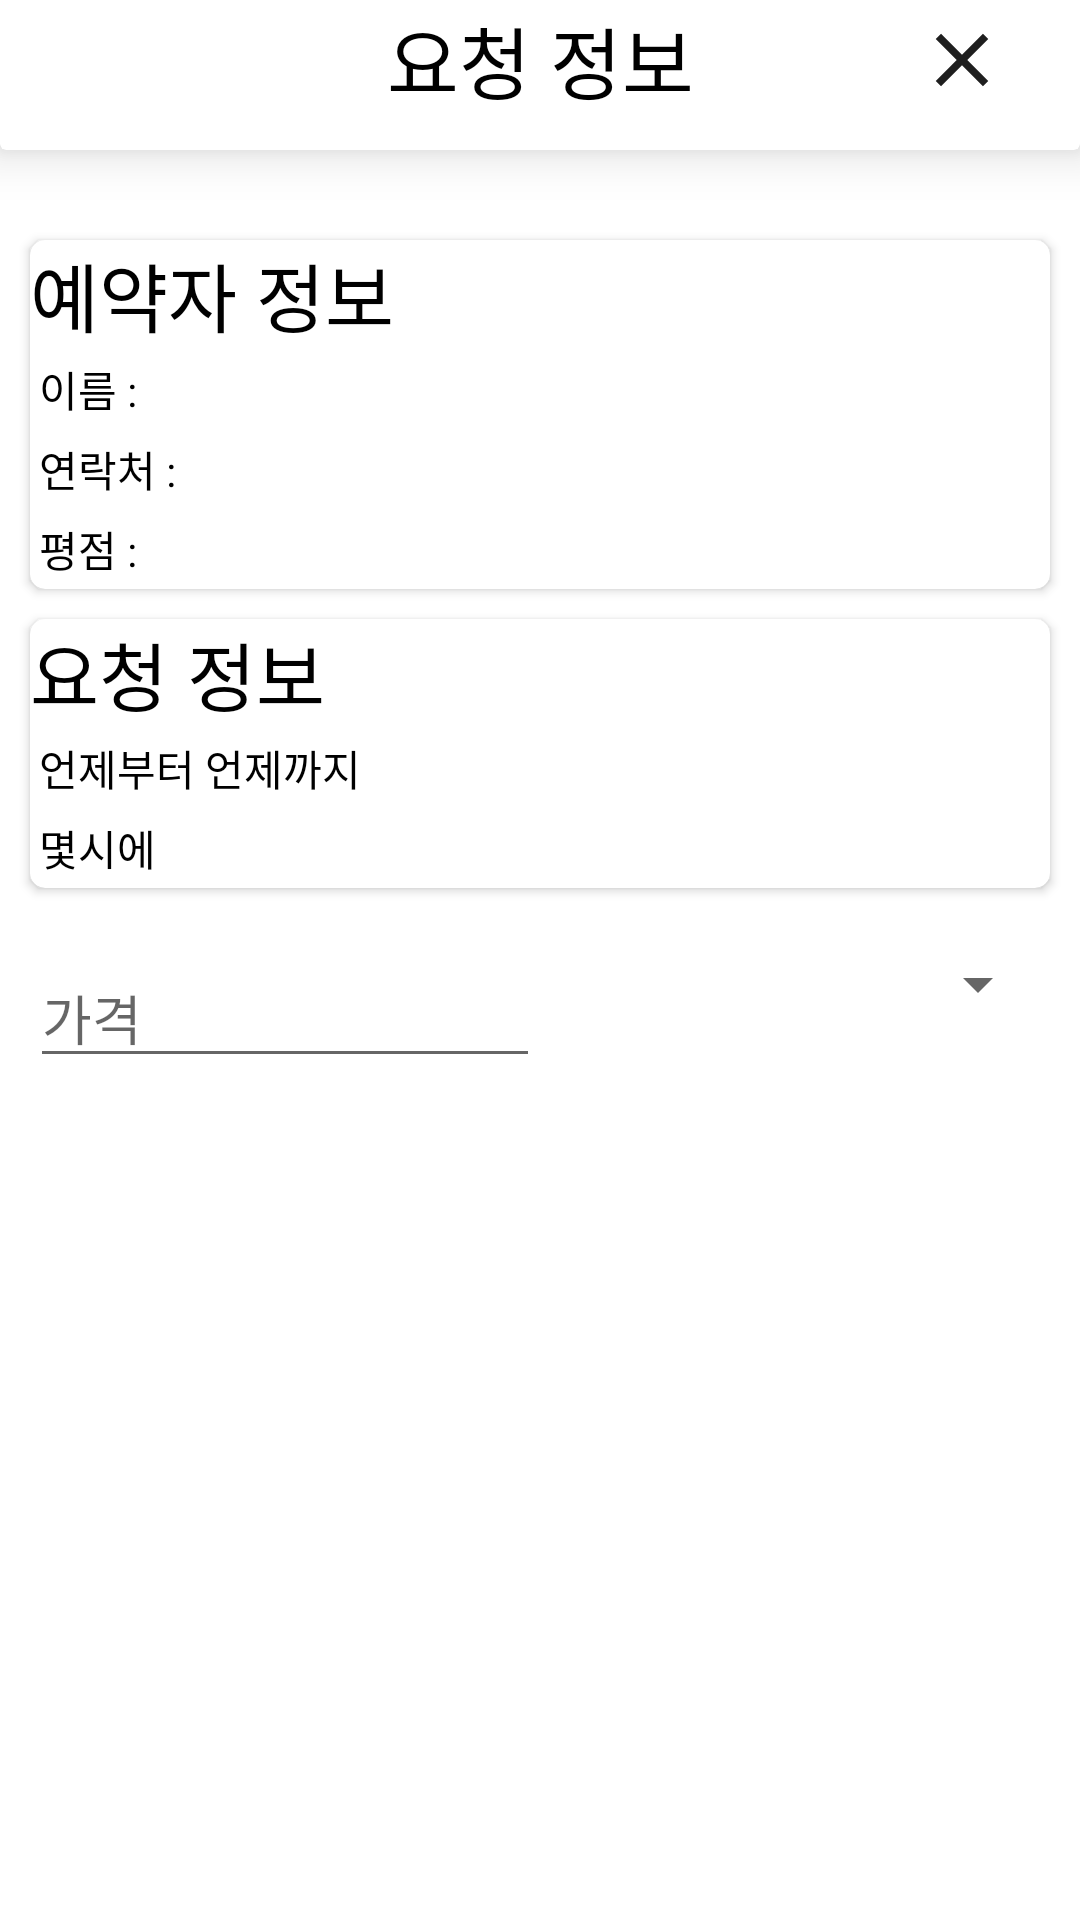

Locate icon controls on the screen. Image size 1080 x 1920, boxes as (x1, y1, x2, y2).
close: (936, 34, 988, 86)
